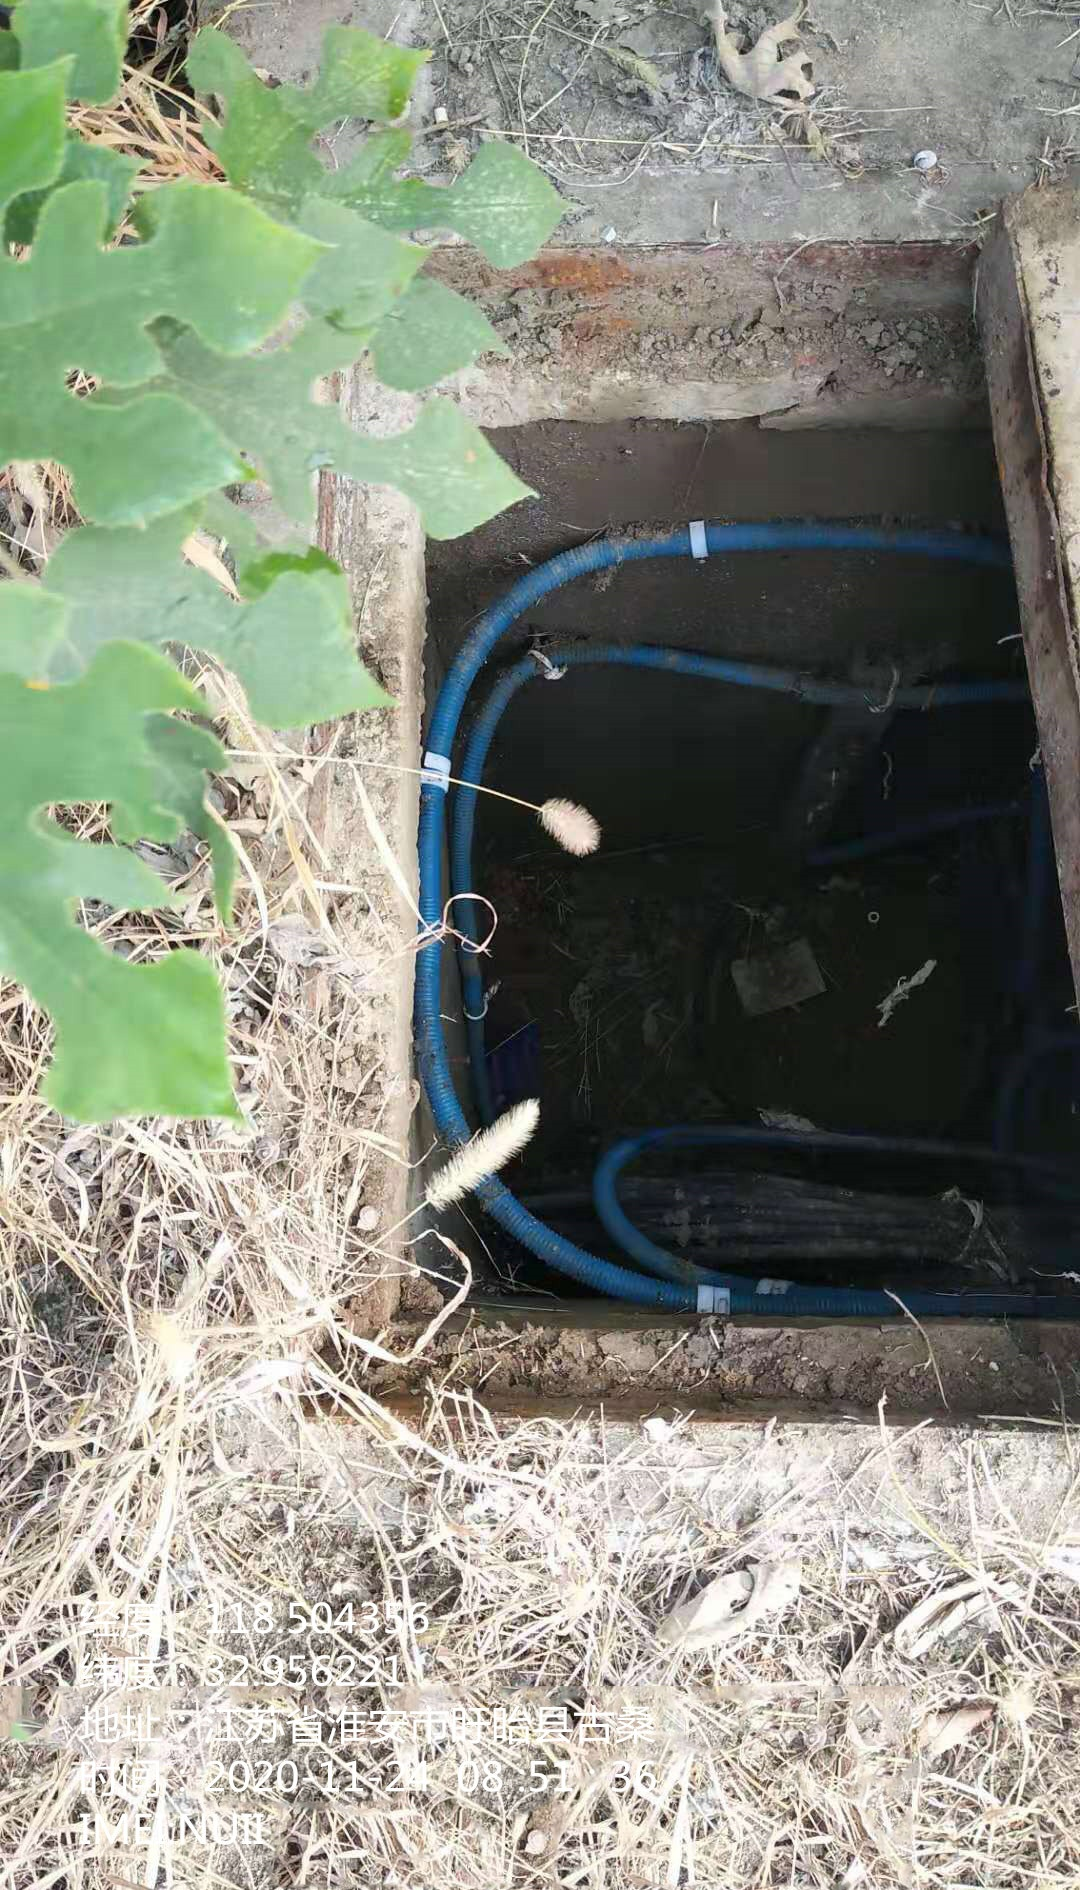lose: (328, 212, 1080, 1425)
